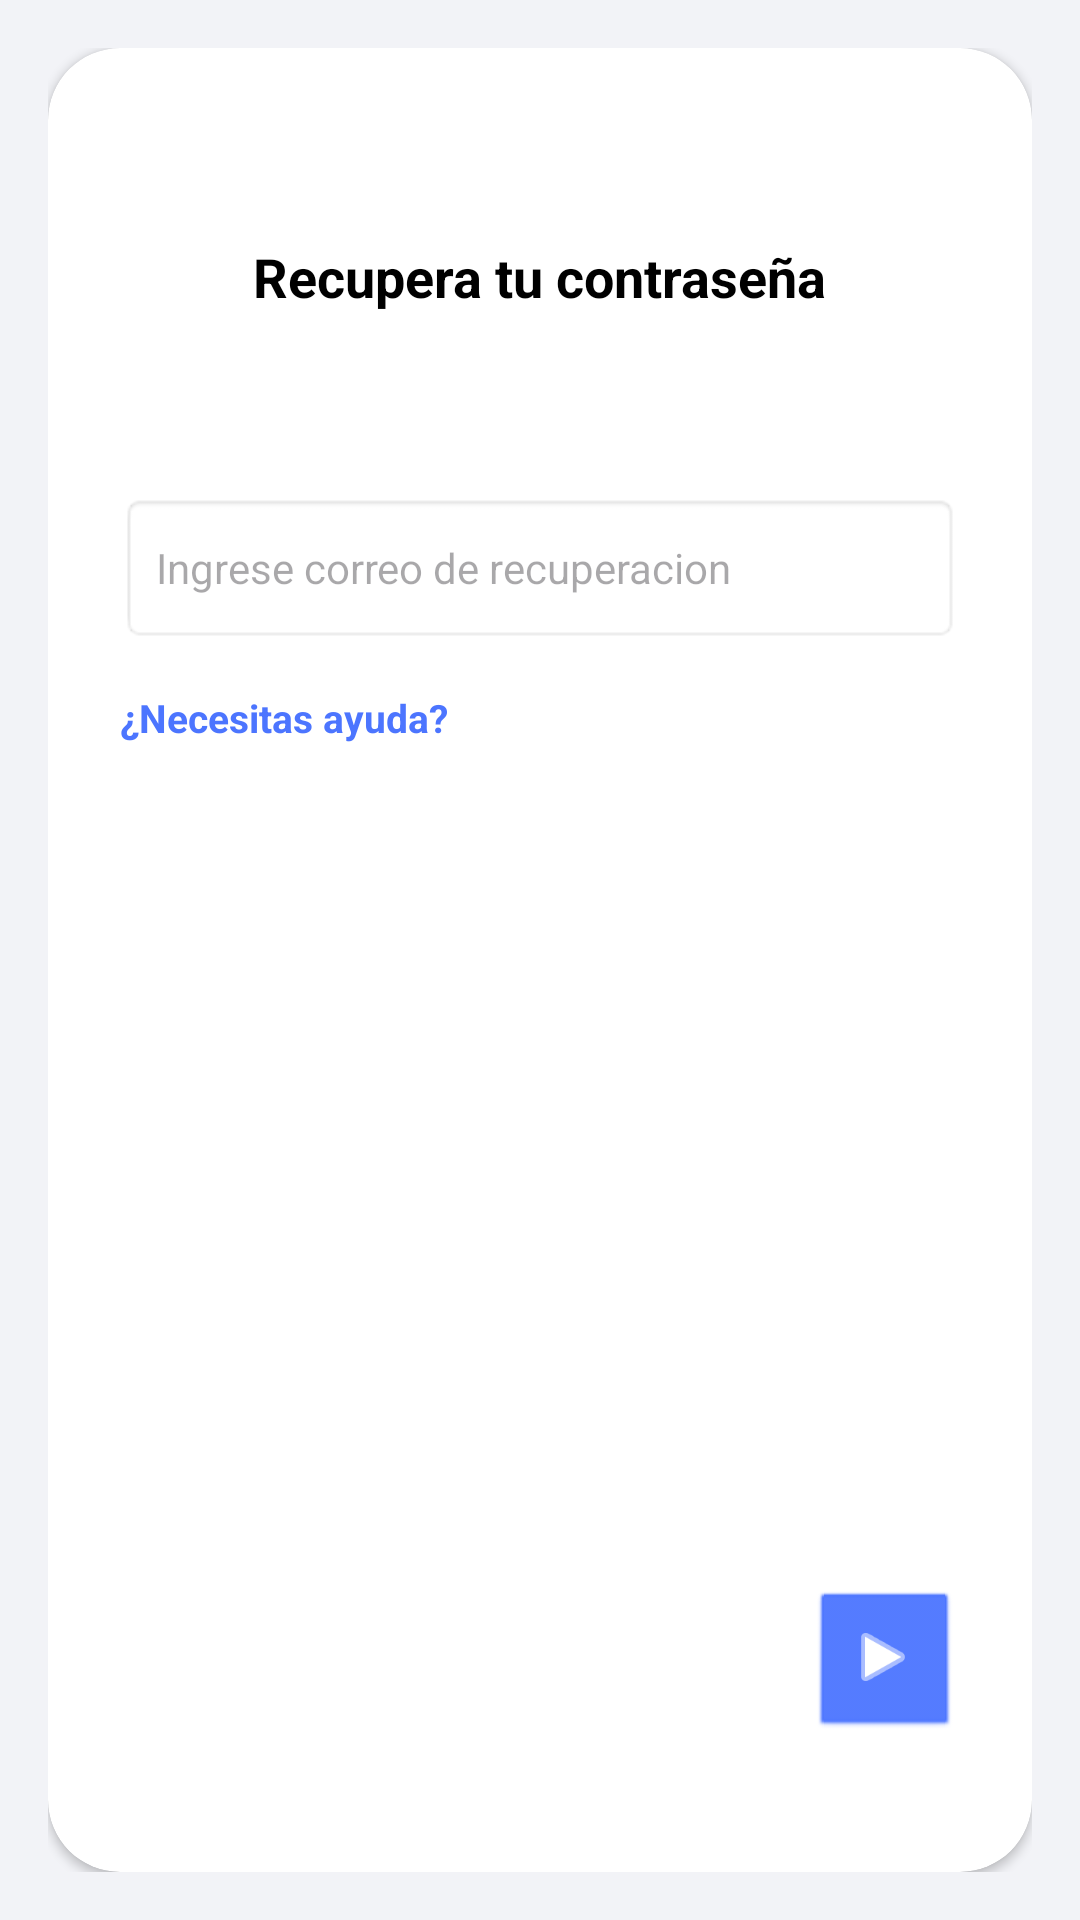

Where to tap for icons on this 1080*1920 app screen, as point (x, y):
Siguiente: point (883, 1657)
